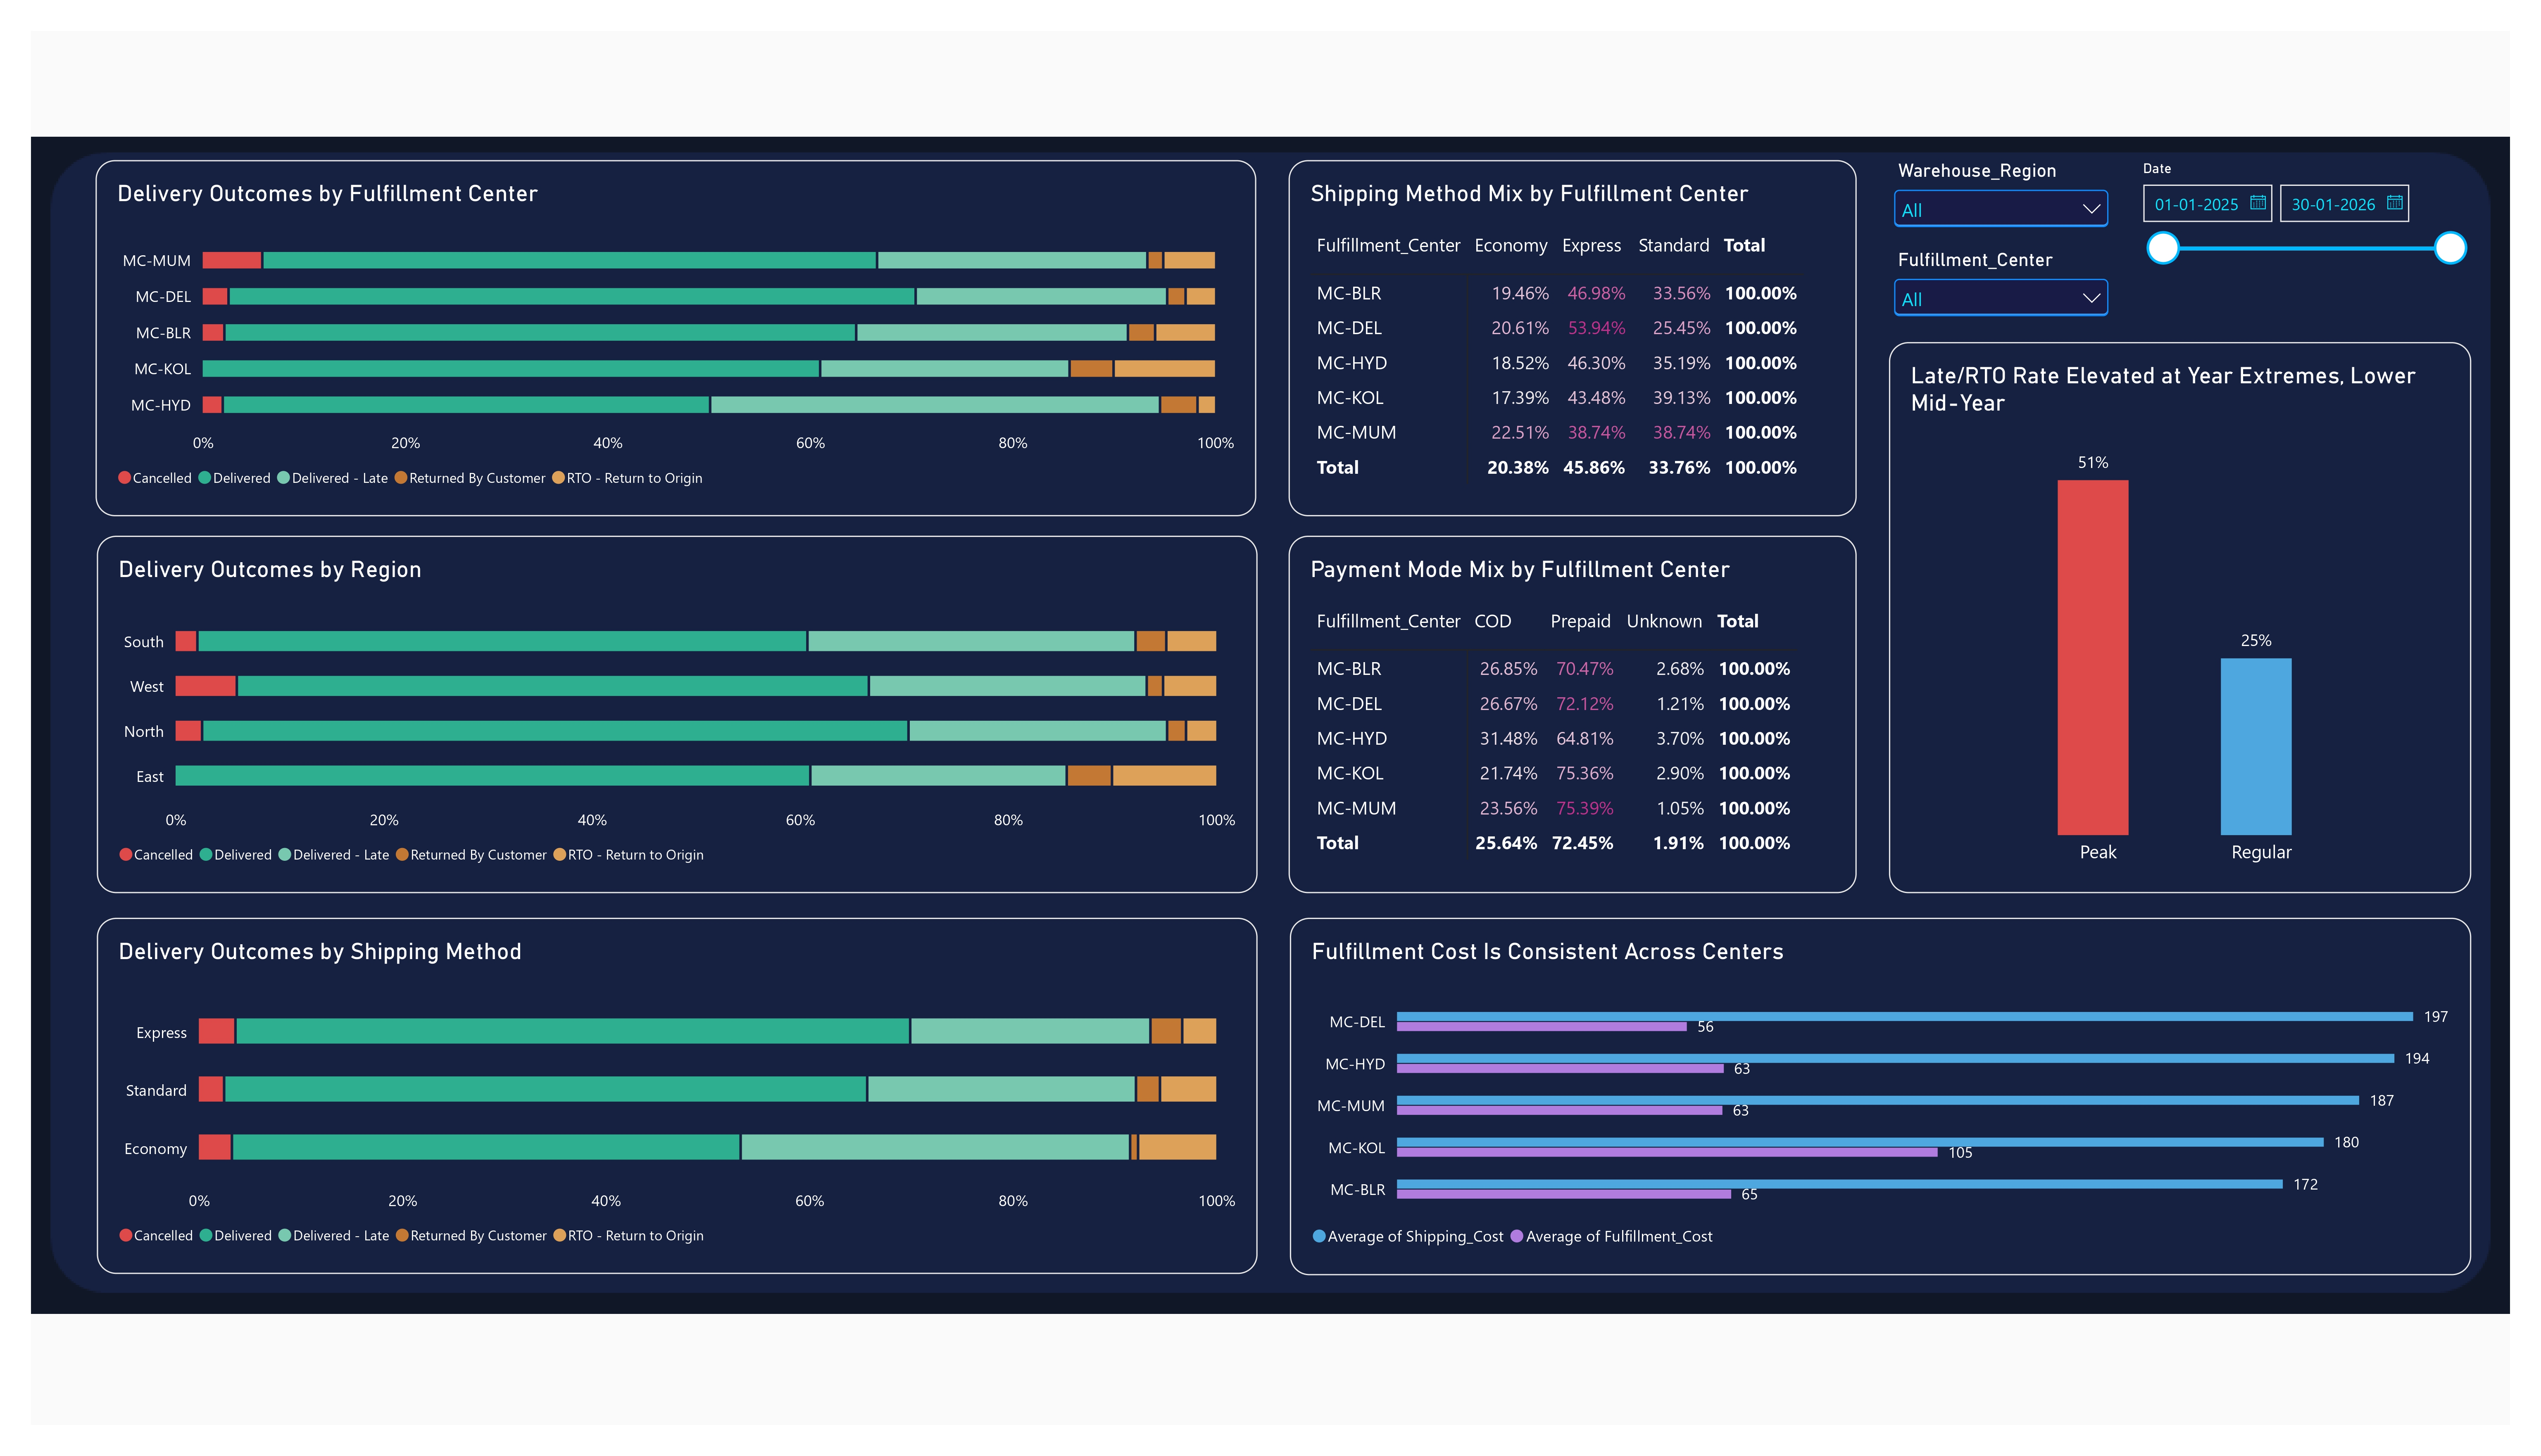

Layout of this report page (visuals, bound fields, positions):
{"tool":"powerbi","page":{"name":"Page 2","canvas":[1920,1080],"ordinal":1},"visuals":[{"type":"hundredPercentStackedBarChart","title":"Delivery Outcomes by Fulfillment Center","fields":{"Category":["PROD-BACKUP.Fulfillment_Center"],"Series":["PROD-BACKUP.Delivery_Status"],"Y":["CountNonNull(PROD-BACKUP.Order_ID)"]},"box":[50,100,899.3,276.4],"z":0},{"type":"pivotTable","title":"Shipping Method Mix by Fulfillment Center","fields":{"Columns":["PROD-BACKUP.Shipping_Method"],"Rows":["PROD-BACKUP.Fulfillment_Center"],"Values":["Min(PROD-BACKUP.Order_ID)"]},"box":[974.3,100,440.1,276.4],"z":1000},{"type":"clusteredBarChart","title":"Fulfillment Cost Is Consistent Across Centers","fields":{"Category":["PROD-BACKUP.Fulfillment_Center"],"Y":["Avg(PROD-BACKUP.Shipping_Cost)","Avg(PROD-BACKUP.Fulfillment_Cost)"]},"box":[975.4,687,914.5,276.8],"z":2000},{"type":"clusteredColumnChart","title":"Late/RTO Rate Elevated at Year Extremes, Lower Mid-Year","fields":{"Category":["DateTable.IsPeakSeason"],"Y":["PROD-BACKUP.LateOrRTORate"]},"box":[1439.1,240.6,450.7,427.5],"z":3000},{"type":"pivotTable","title":"Payment Mode Mix by Fulfillment Center","fields":{"Columns":["PROD-BACKUP.Payment_Mode_Display"],"Rows":["PROD-BACKUP.Fulfillment_Center"],"Values":["Min(PROD-BACKUP.Order_ID)"]},"box":[974.3,391.4,440.1,276.4],"z":4000},{"type":"slicer","fields":{"Values":["PROD-BACKUP.Fulfillment_Center"]},"box":[1438.3,169.1,175.3,58],"z":5000},{"type":"slicer","fields":{"Values":["PROD-BACKUP.Warehouse_Region"]},"box":[1438.3,100,175.3,58],"z":6000},{"type":"slicer","fields":{"Values":["DateTable.Date"]},"box":[1627.5,100,262.3,127.5],"z":7000},{"type":"hundredPercentStackedBarChart","title":"Delivery Outcomes by Region","fields":{"Category":["PROD-BACKUP.Warehouse_Region"],"Series":["PROD-BACKUP.Delivery_Status"],"Y":["CountNonNull(PROD-BACKUP.Order_ID)"]},"box":[51,391.2,899.3,276.4],"z":8000},{"type":"hundredPercentStackedBarChart","title":"Delivery Outcomes by Shipping Method","fields":{"Category":["PROD-BACKUP.Shipping_Method"],"Series":["PROD-BACKUP.Delivery_Status"],"Y":["CountNonNull(PROD-BACKUP.Order_ID)"]},"box":[51,686.7,899.3,276.4],"z":9000}]}

Visuals, with their boxes on the page's 1920x1080 design canvas (x1, y1, x2, y2). These are canvas units, not pixel positions in the 2541x1456 screenshot, which may show the page scaled, cropped or inside an application window:
"Delivery Outcomes by Fulfillment Center" hundredPercentStackedBarChart: (left=50, top=100, right=949, bottom=376)
"Shipping Method Mix by Fulfillment Center" pivotTable: (left=974, top=100, right=1414, bottom=376)
"Fulfillment Cost Is Consistent Across Centers" clusteredBarChart: (left=975, top=687, right=1890, bottom=964)
"Late/RTO Rate Elevated at Year Extremes, Lower Mid-Year" clusteredColumnChart: (left=1439, top=241, right=1890, bottom=668)
"Payment Mode Mix by Fulfillment Center" pivotTable: (left=974, top=391, right=1414, bottom=668)
slicer - PROD-BACKUP.Fulfillment_Center: (left=1438, top=169, right=1614, bottom=227)
slicer - PROD-BACKUP.Warehouse_Region: (left=1438, top=100, right=1614, bottom=158)
slicer - DateTable.Date: (left=1628, top=100, right=1890, bottom=228)
"Delivery Outcomes by Region" hundredPercentStackedBarChart: (left=51, top=391, right=950, bottom=668)
"Delivery Outcomes by Shipping Method" hundredPercentStackedBarChart: (left=51, top=687, right=950, bottom=963)
